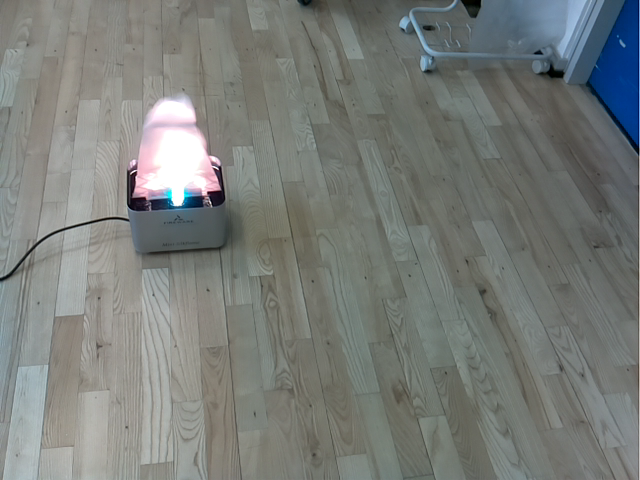fire: (131, 92, 221, 198)
